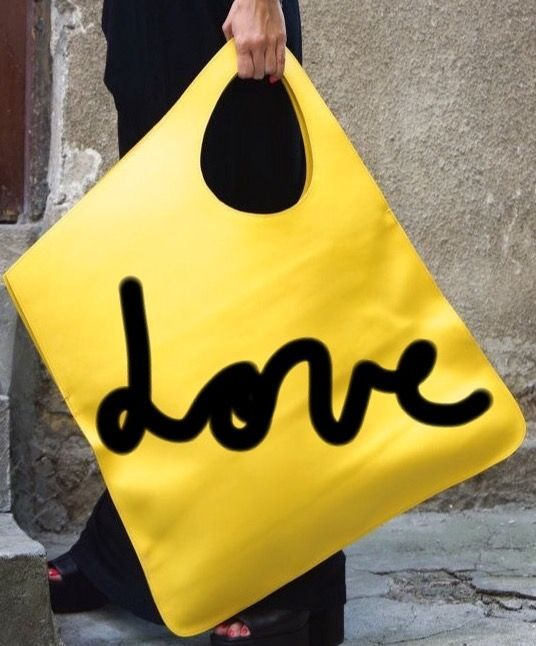cuero: (5, 30, 527, 638)
